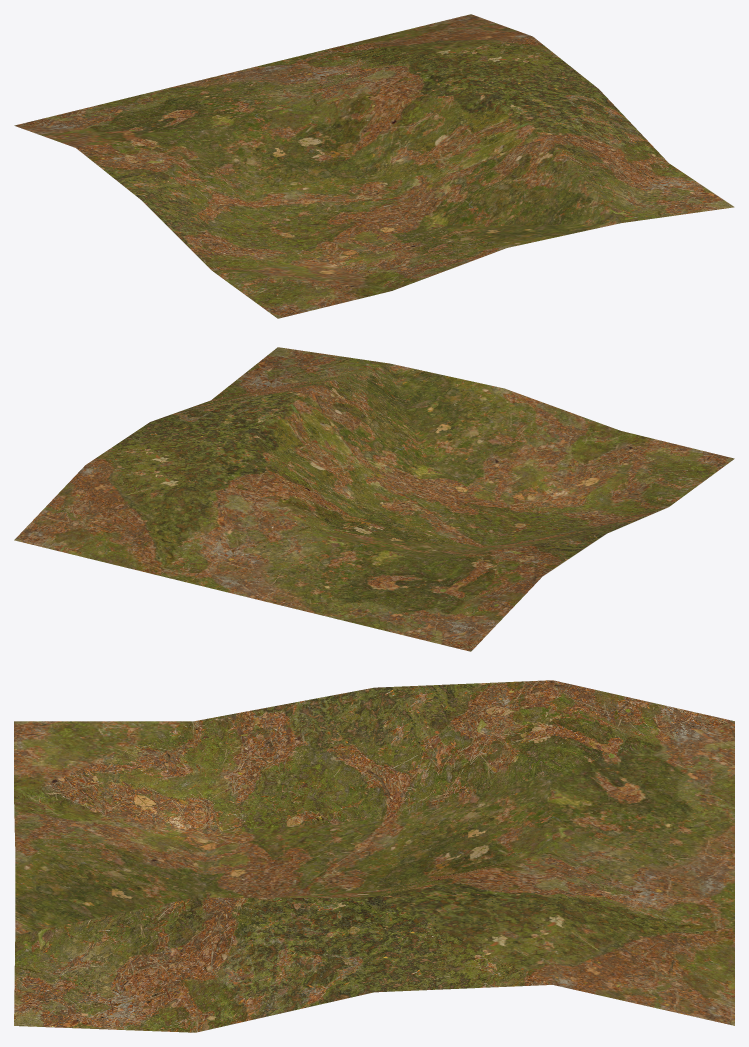
File: grass 4.fbx
The picture shows the model from 3 angles, top to bottom: view 1: azimuth 30°, elevation 25°; view 2: azimuth 150°, elevation 25°; view 3: azimuth 270°, elevation 25°; orthographic projection. The views are drawn at different scales.
Parts seen in each view (by area): view 1: grass 4.001; view 2: grass 4.001; view 3: grass 4.001.
Boxes of the visible parts, box(x1,y1,x2,y2) form: grass 4.001: box(14, 14, 734, 318); grass 4.001: box(14, 347, 734, 651); grass 4.001: box(14, 680, 734, 1032).
Size of the model in its own units: 18 by 18.21 by 2.37.
1 material, 1 textured.
